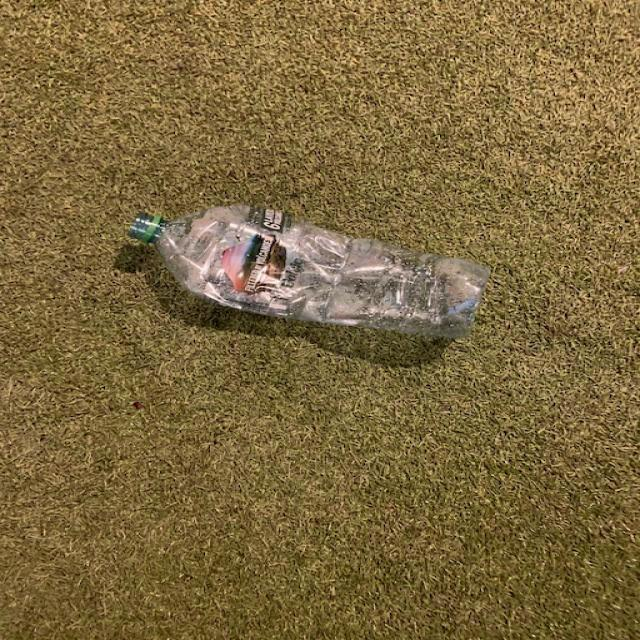bottle: (126, 205, 489, 338)
